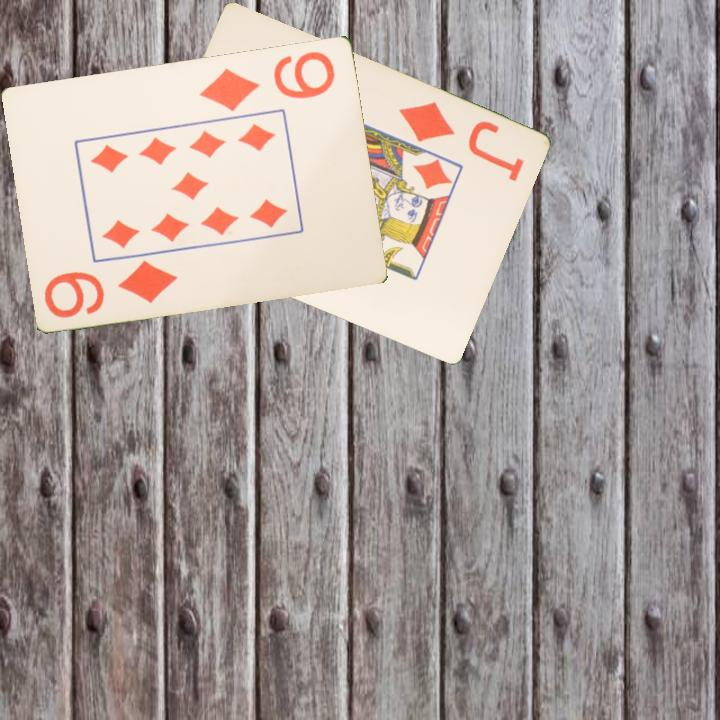9d: (196, 47, 339, 114), (40, 256, 181, 321)
Jd: (394, 98, 527, 185)
